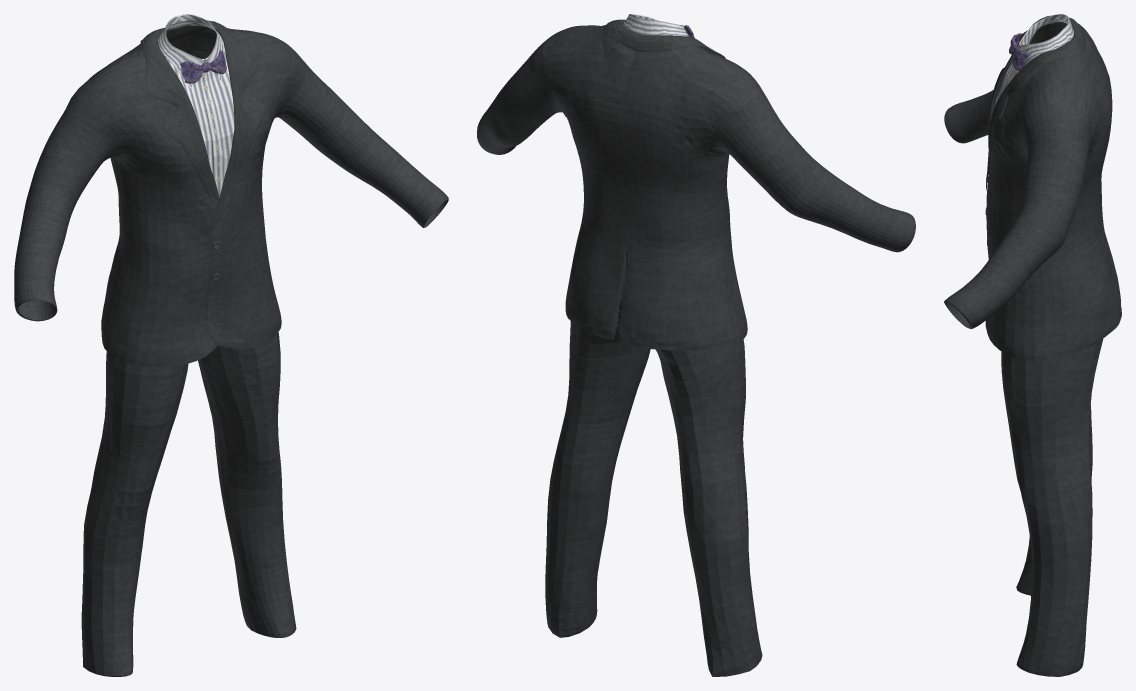
Rendered from mhw_toigo_suit_with_jacket_and_bowtie.glb.
3 views of the same model, side by side, from view 1: azimuth 30°, elevation 25°; view 2: azimuth 150°, elevation 25°; view 3: azimuth 270°, elevation 25° (orthographic). The views are drawn at different scales.
Parts seen in each view (by area): view 1: mhw_toigo_suit_with_jacket_and_bowtie; view 2: mhw_toigo_suit_with_jacket_and_bowtie; view 3: mhw_toigo_suit_with_jacket_and_bowtie.
Boxes of the visible parts, left/top/right/bottom form: mhw_toigo_suit_with_jacket_and_bowtie: left=14, top=14, right=448, bottom=676; mhw_toigo_suit_with_jacket_and_bowtie: left=477, top=14, right=915, bottom=676; mhw_toigo_suit_with_jacket_and_bowtie: left=944, top=14, right=1121, bottom=676.
Size of the model in its own units: 1.14 by 1.58 by 0.4171.
Materials: 1 (1 with a texture image).
